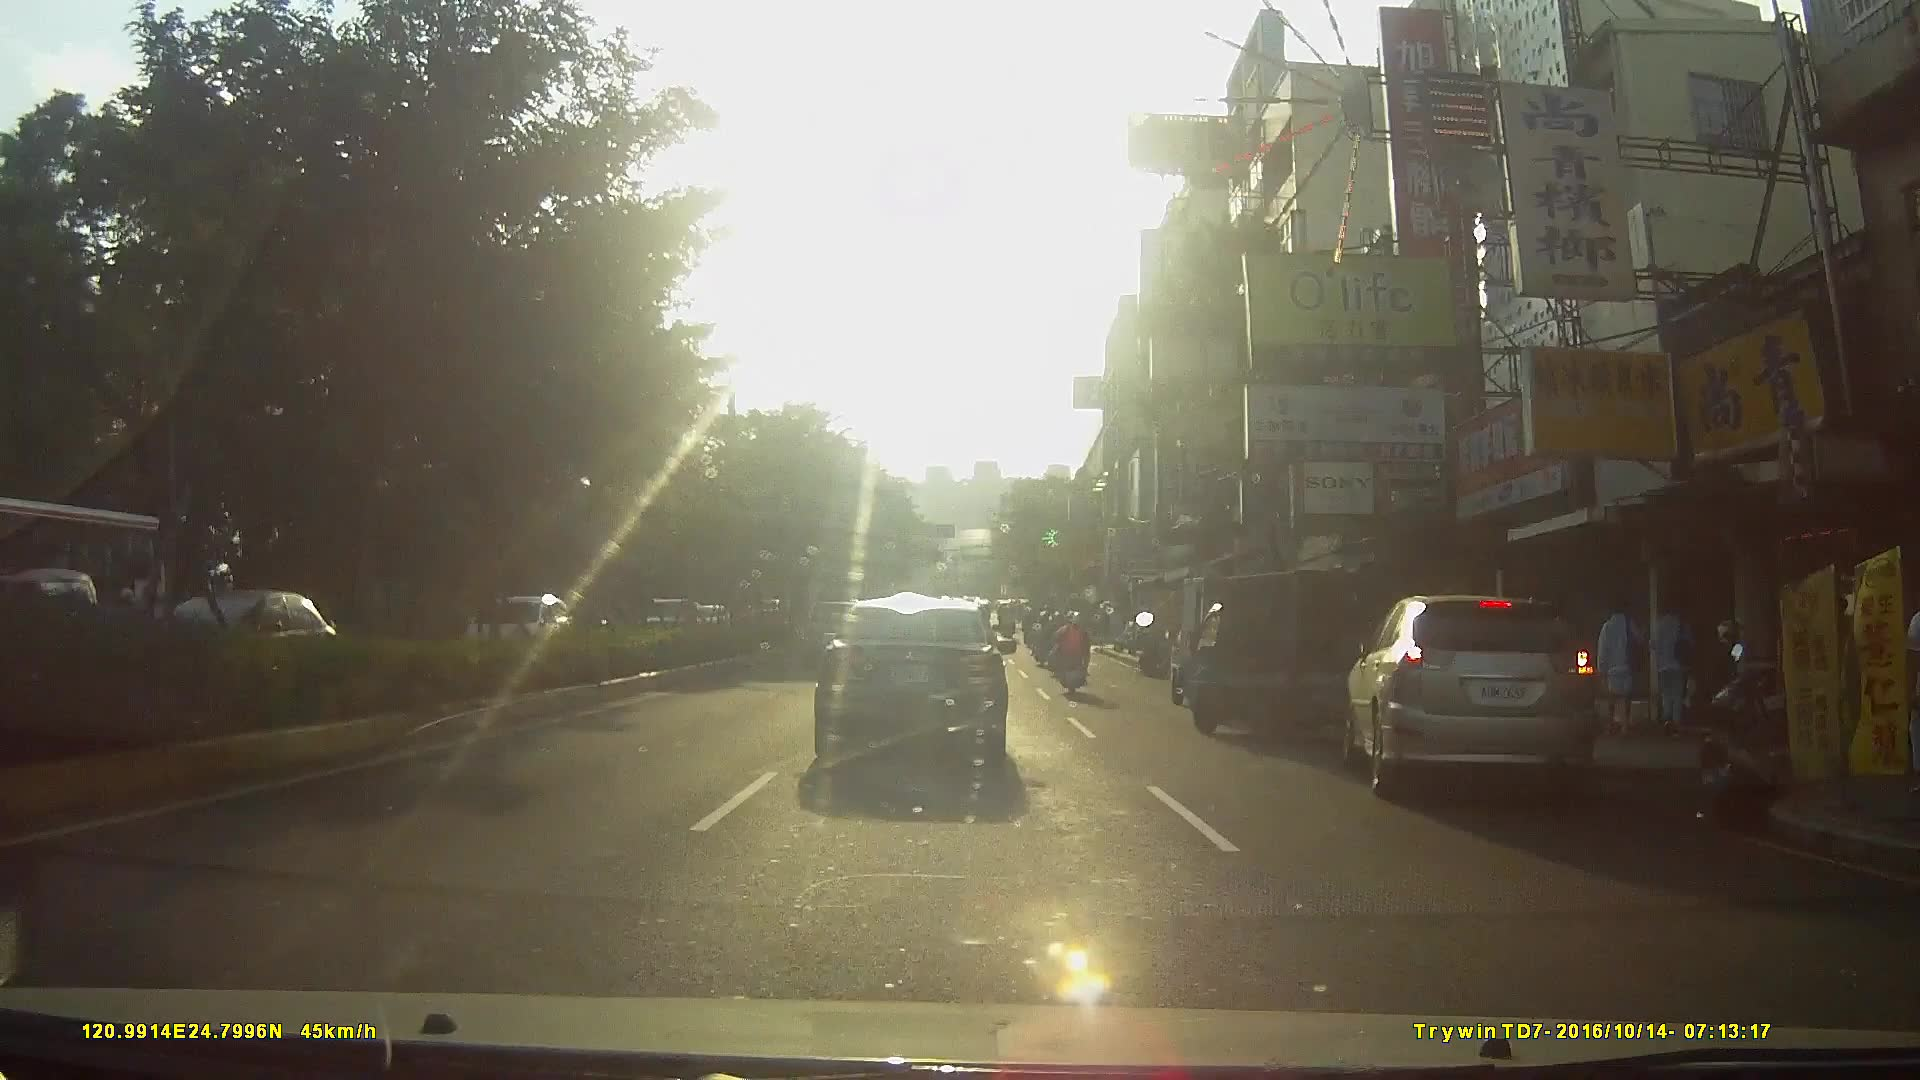pedestrian: (1645, 593, 1702, 741), (1594, 593, 1651, 744)
rider: (1047, 608, 1088, 699), (1028, 609, 1054, 666)
vehicle: (1345, 582, 1629, 824), (1162, 564, 1377, 757), (809, 591, 1027, 778), (1, 496, 174, 678)
